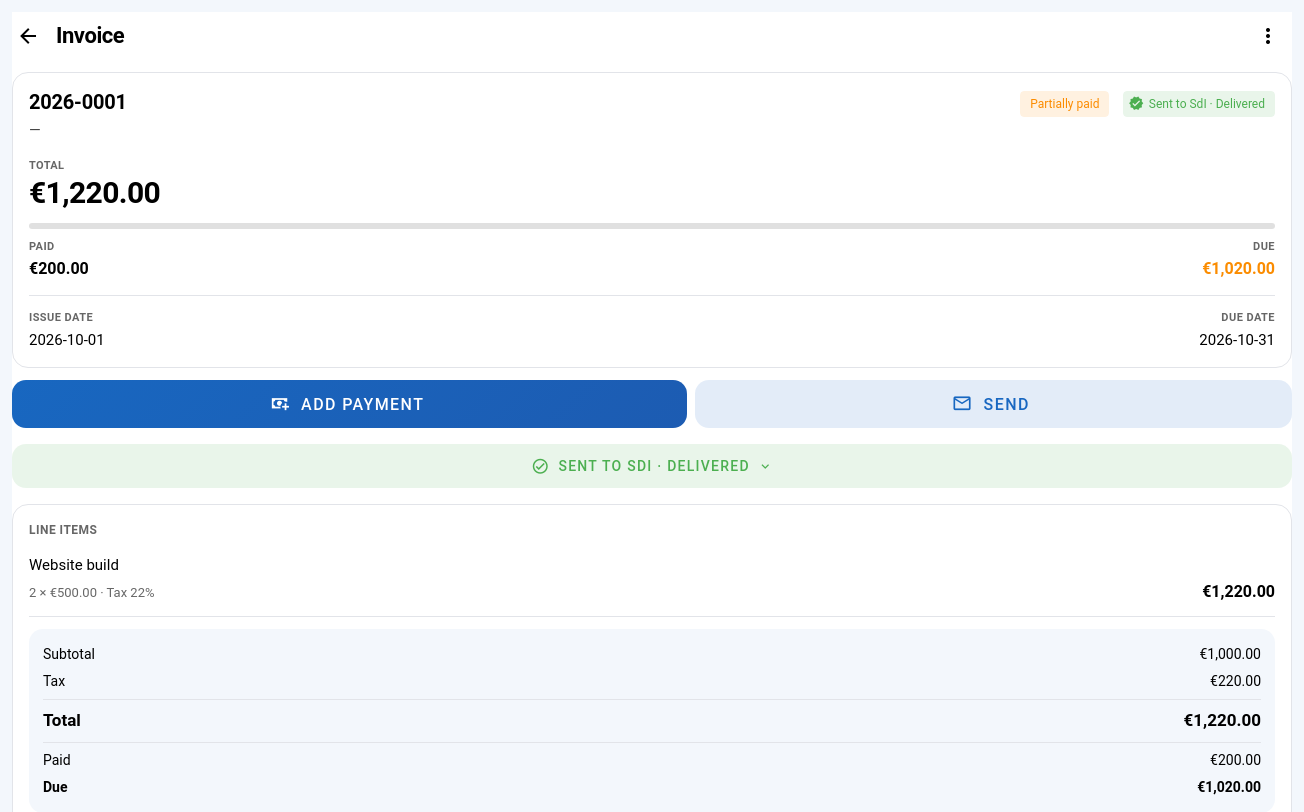
Test: InvoiceDetail — phone layout › puts Void in the overflow menu and disables it once legally issued at SdI
Click the button with test id "invoice-more" at point(1268, 36), box [1244,12,1292,60]
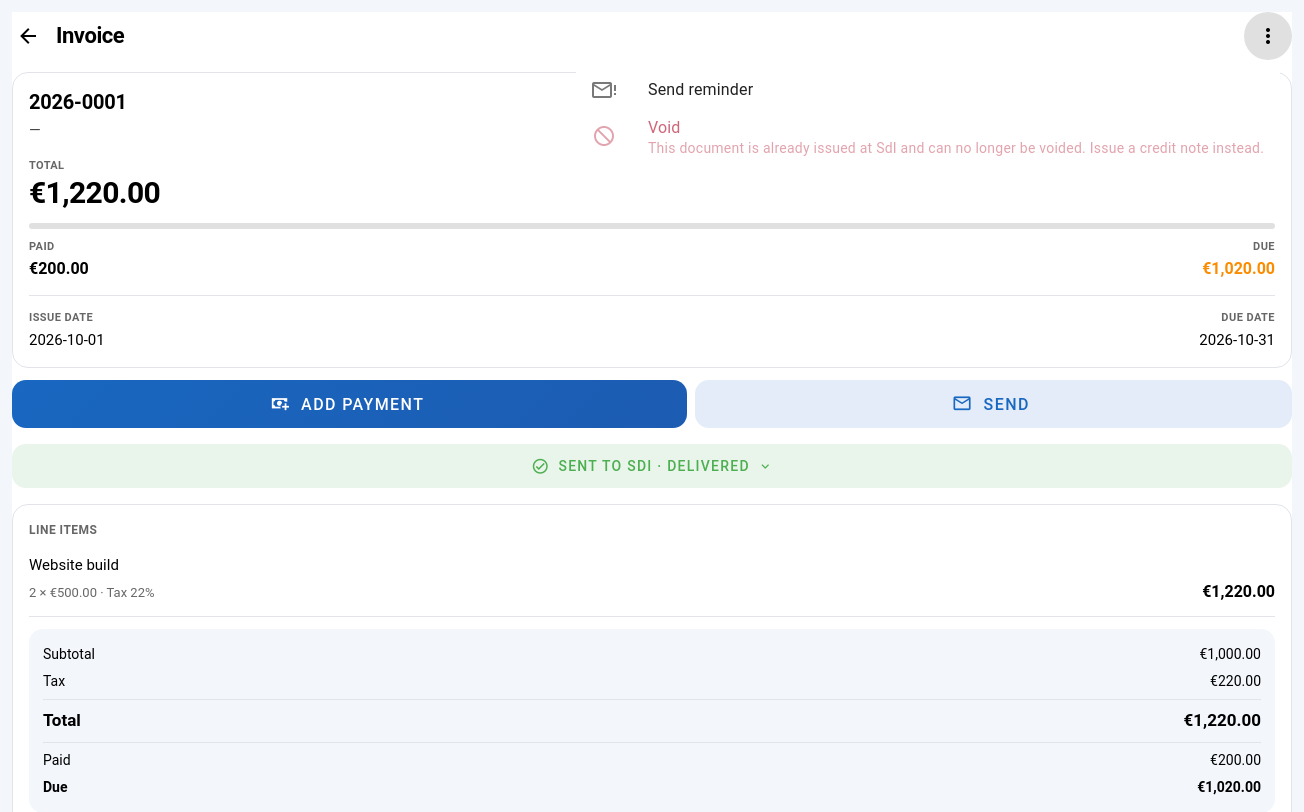
Expected: the element with test id "invoice-void" is shown, [576,112,1280,160]
Expected: the element with test id "invoice-void" shows "credit note", [648,140,1264,156]
